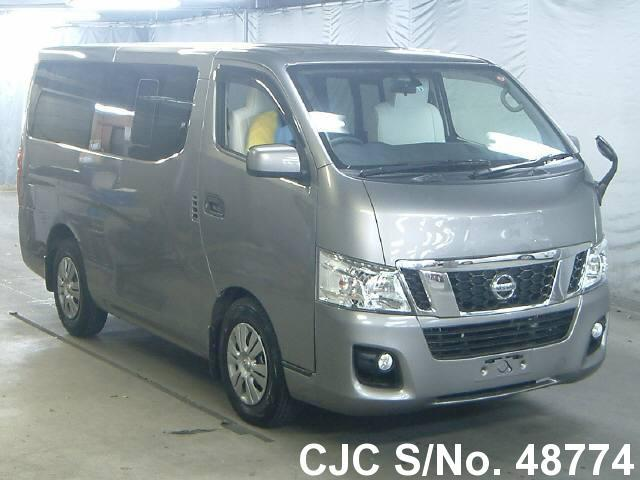van: (22, 41, 617, 412)
